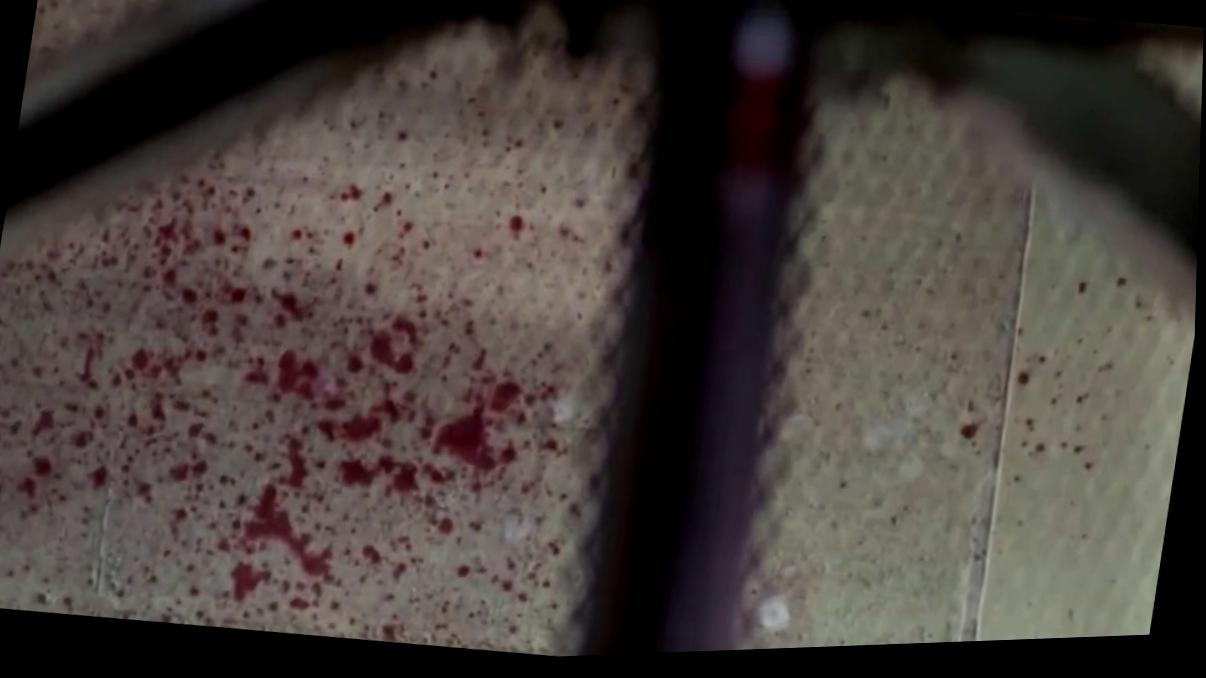Fire: (0, 27, 649, 661), (744, 87, 1197, 656)
